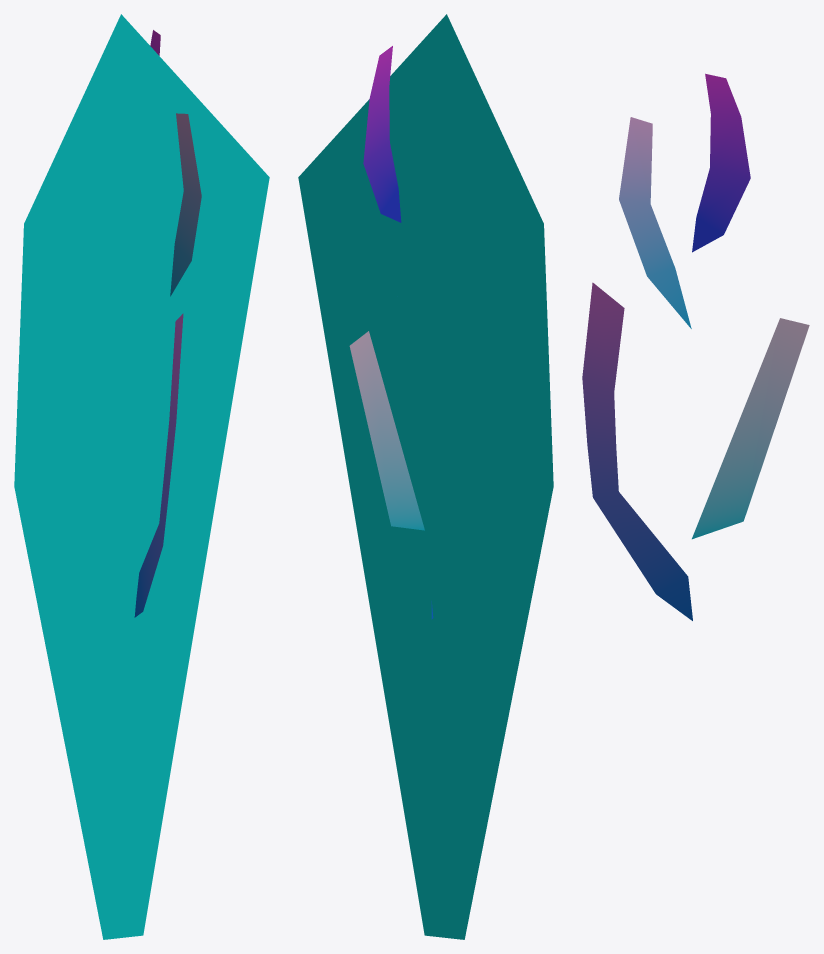
Rendered from Nordic_Coastal_Groundcover_vlqkdeaja_Mid_vlqkdeaja_VarD_LOD1.fbx.
3 renders of one model, left to right at view 1: azimuth 30°, elevation 25°; view 2: azimuth 150°, elevation 25°; view 3: azimuth 270°, elevation 25°, orthographic.
Parts seen in each view (by area): view 1: _tcfu_VarD_LOD3; view 2: _tcfu_VarD_LOD3; view 3: _tcfu_VarD_LOD3.
Boxes of the visible parts, x1,y1,x2,y2 form: _tcfu_VarD_LOD3: (14, 14, 269, 939); _tcfu_VarD_LOD3: (298, 14, 553, 939); _tcfu_VarD_LOD3: (582, 73, 809, 620).
Size of the model in its own units: 13.91 by 48.25 by 10.86.
